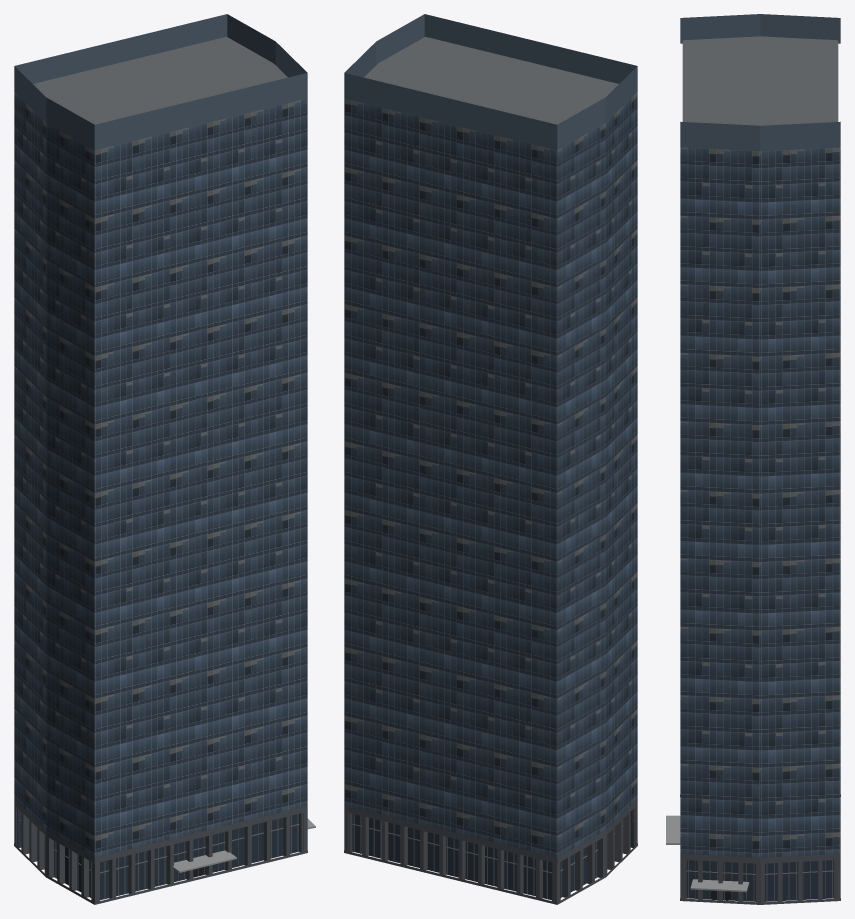
The model's file is russell_investments_center.glb.
The picture shows the model from 3 angles, left to right: view 1: azimuth 30°, elevation 25°; view 2: azimuth 150°, elevation 25°; view 3: azimuth 270°, elevation 25°; orthographic projection.
Visible parts, largest first — view 1: russell_investments_center; view 2: russell_investments_center; view 3: russell_investments_center.
Boxes of the visible parts, x1,y1,x2,y2 form: russell_investments_center: [14, 14, 315, 904]; russell_investments_center: [344, 14, 637, 904]; russell_investments_center: [666, 14, 840, 904].
Bounding box in the file's own units: 58.73 × 182 × 37.04.
Materials: 2 (2 with a texture image).
